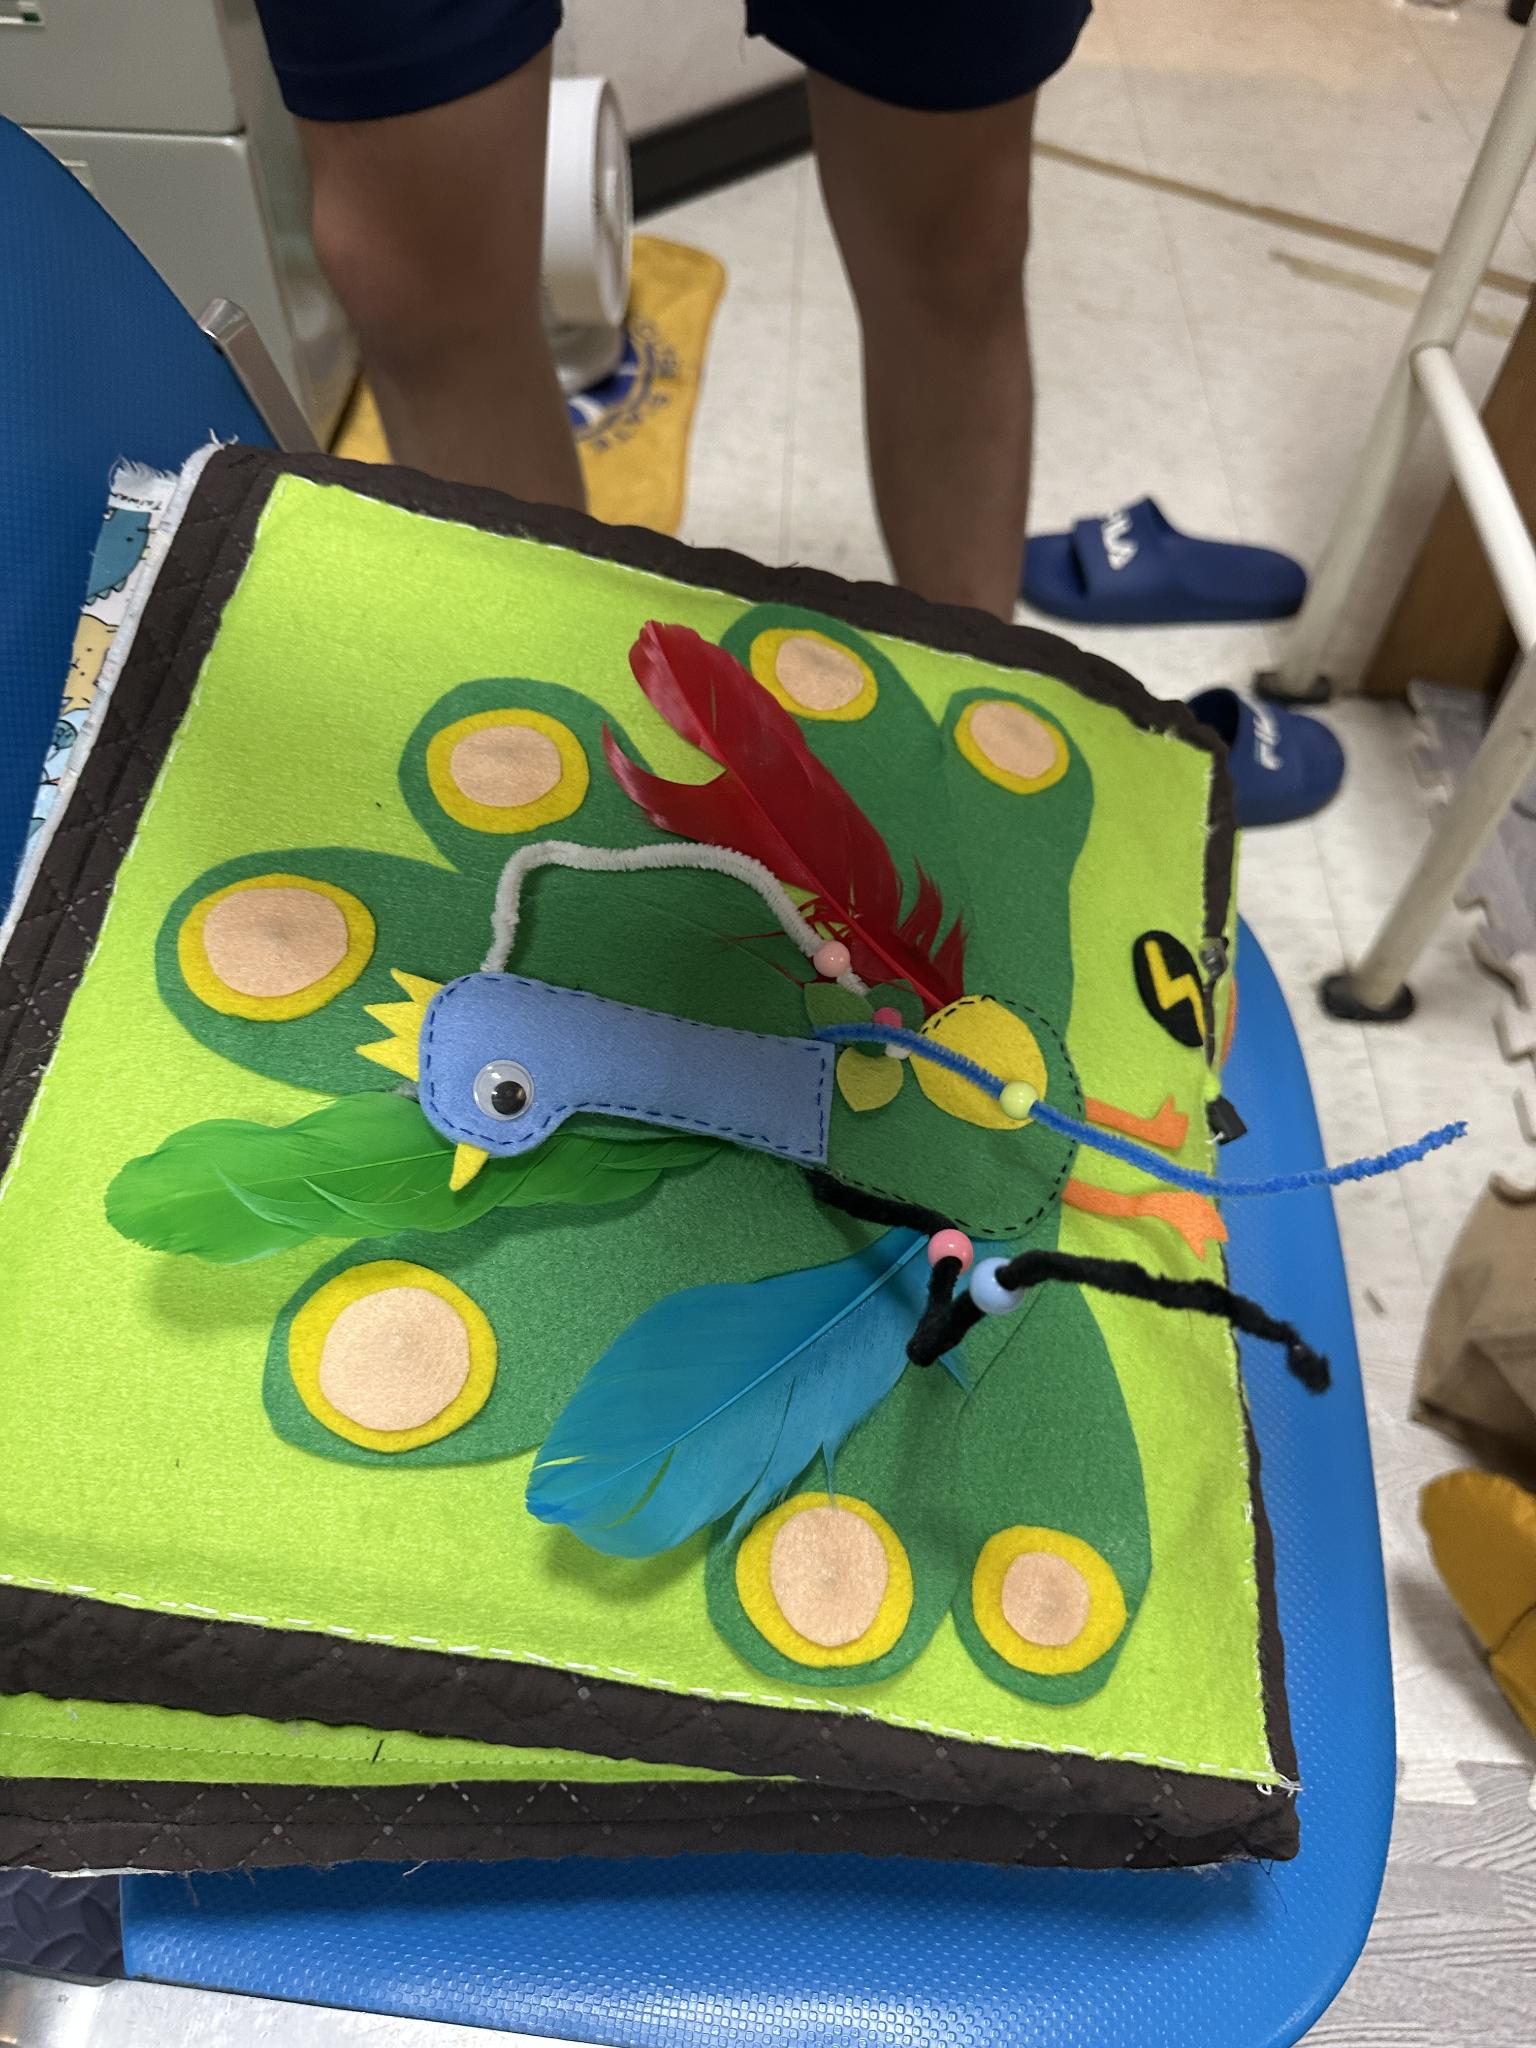bead: (920, 1198, 976, 1272), (965, 1253, 1029, 1314), (800, 935, 862, 992), (1004, 1059, 1047, 1135)
